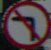Don't turn left: (4, 8, 44, 45)
